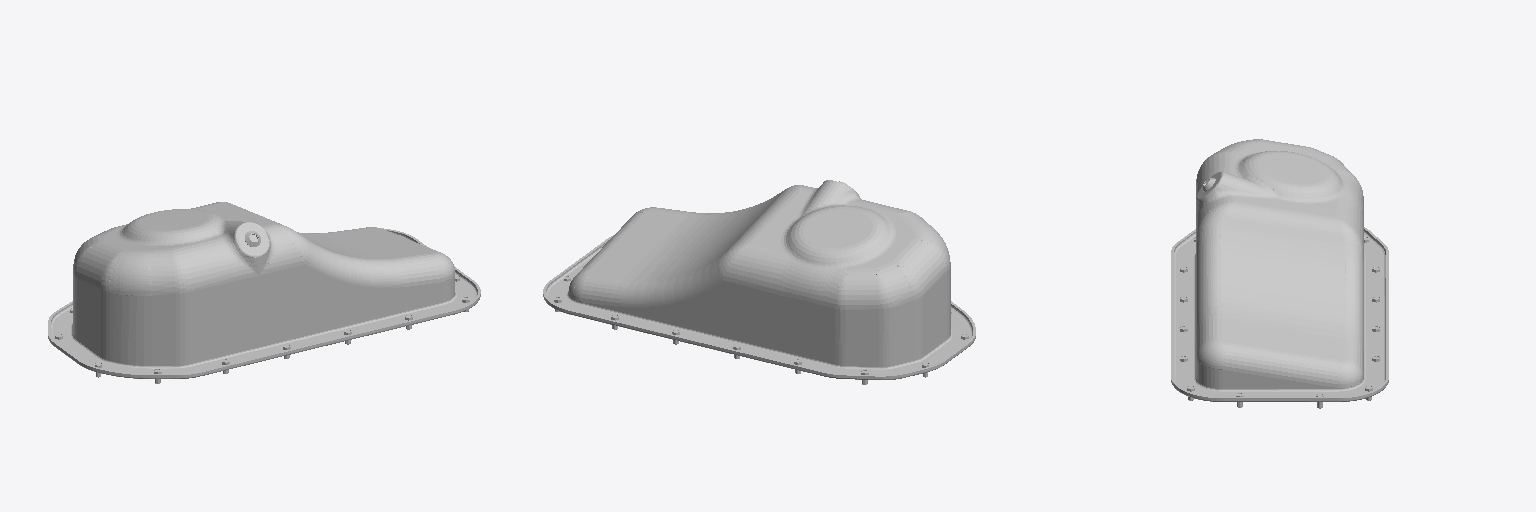
File: Картер масляный с пробкой в сборе.obj
3 views of the same model, side by side, from view 1: azimuth 30°, elevation 25°; view 2: azimuth 150°, elevation 25°; view 3: azimuth 270°, elevation 25° (orthographic).
Parts seen in each view (by area): view 1: Картер_масляный_с_пробкой_в_сборе; view 2: Картер_масляный_с_пробкой_в_сборе; view 3: Картер_масляный_с_пробкой_в_сборе.
Part boxes in pixels (x1,y1,x2,y2): Картер_масляный_с_пробкой_в_сборе: (48,202,480,383); Картер_масляный_с_пробкой_в_сборе: (543,180,975,384); Картер_масляный_с_пробкой_в_сборе: (1171,139,1388,408).
Bounding box in the file's own units: 447 × 143 × 223.